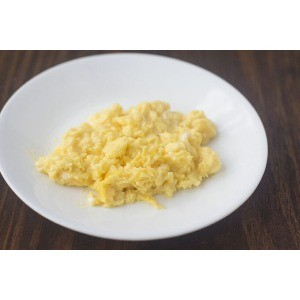egg_brain food: (60, 100, 211, 201)
